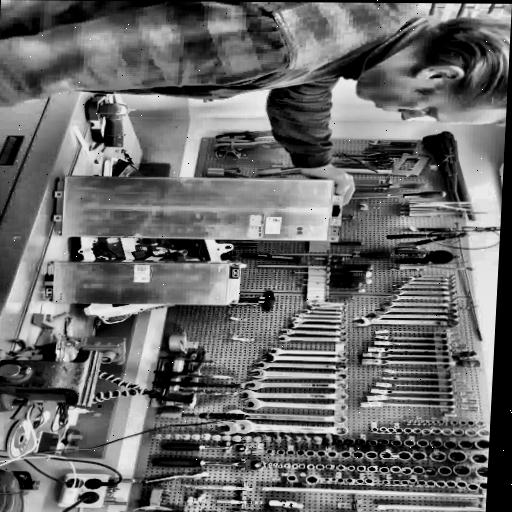battery_module: (61, 178, 334, 240)
